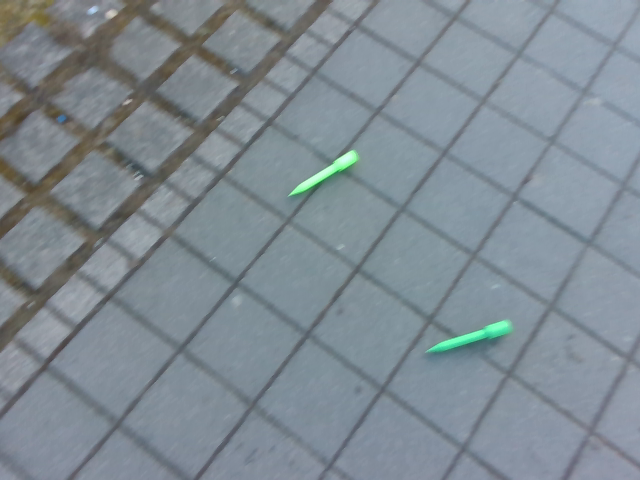Probe: (284, 144, 362, 202), (418, 316, 516, 359)
